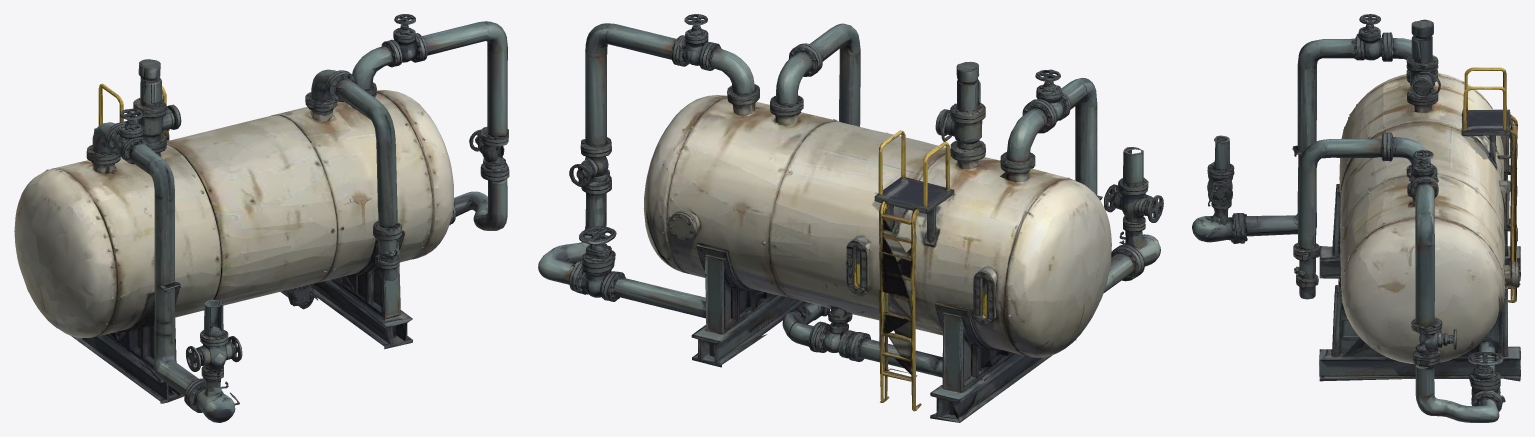
The model's file is separator.glb.
The picture shows the model from 3 angles, left to right: view 1: azimuth 30°, elevation 25°; view 2: azimuth 150°, elevation 25°; view 3: azimuth 270°, elevation 25°; orthographic projection. The views are drawn at different scales.
Size of the model in its own units: 1.9 by 1.09 by 1.22.
1 material, 1 textured.
